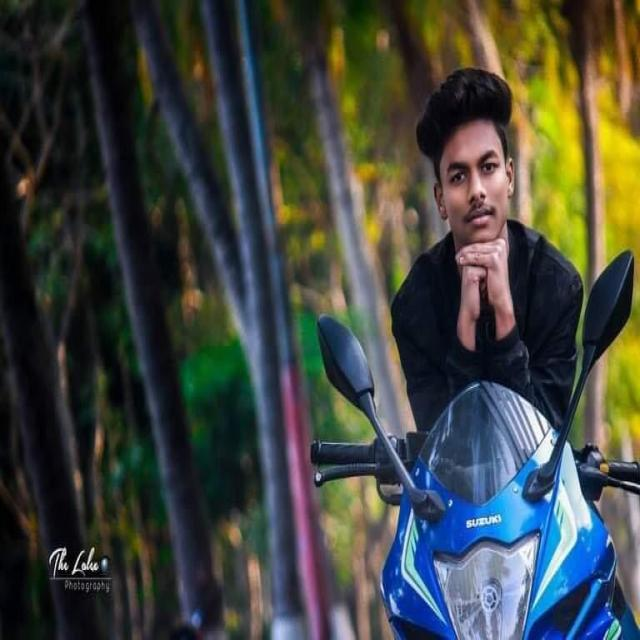Not Wearing Helmet: (374, 78, 545, 266)
